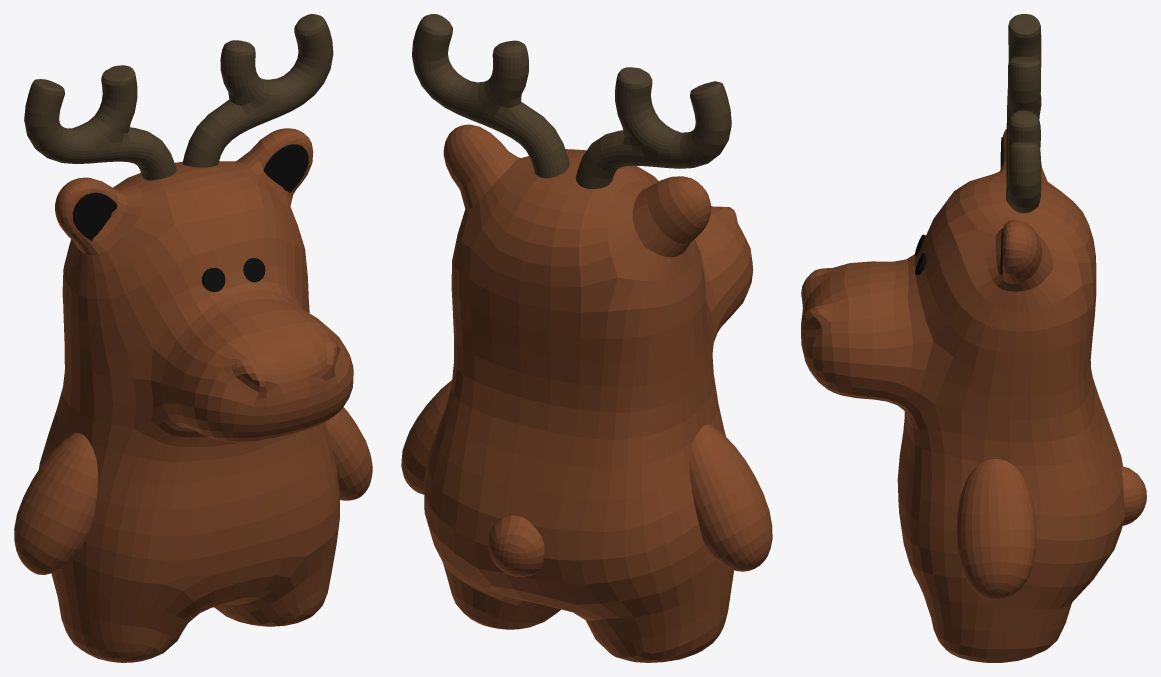
File: big-rack.fbx
The picture shows the model from 3 angles, left to right: view 1: azimuth 30°, elevation 25°; view 2: azimuth 150°, elevation 25°; view 3: azimuth 270°, elevation 25°; orthographic projection. The views are drawn at different scales.
Visible parts, largest first — view 1: Moose Body; view 2: Moose Body; view 3: Moose Body.
Boxes of the visible parts, x1,y1,x2,y2 form: Moose Body: [14, 14, 372, 662]; Moose Body: [401, 14, 772, 662]; Moose Body: [801, 14, 1146, 662].
Bounding box in the file's own units: 115 × 181 × 105.
